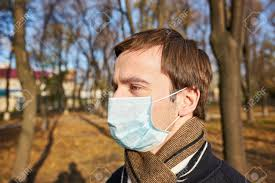with-mask: (102, 33, 211, 159)
